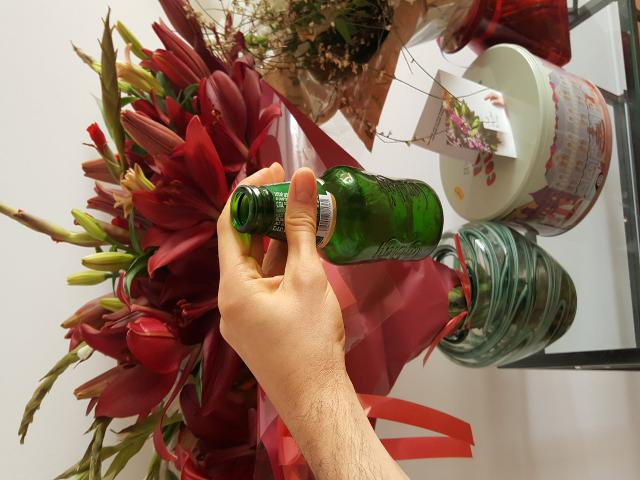beer: (232, 166, 444, 261)
